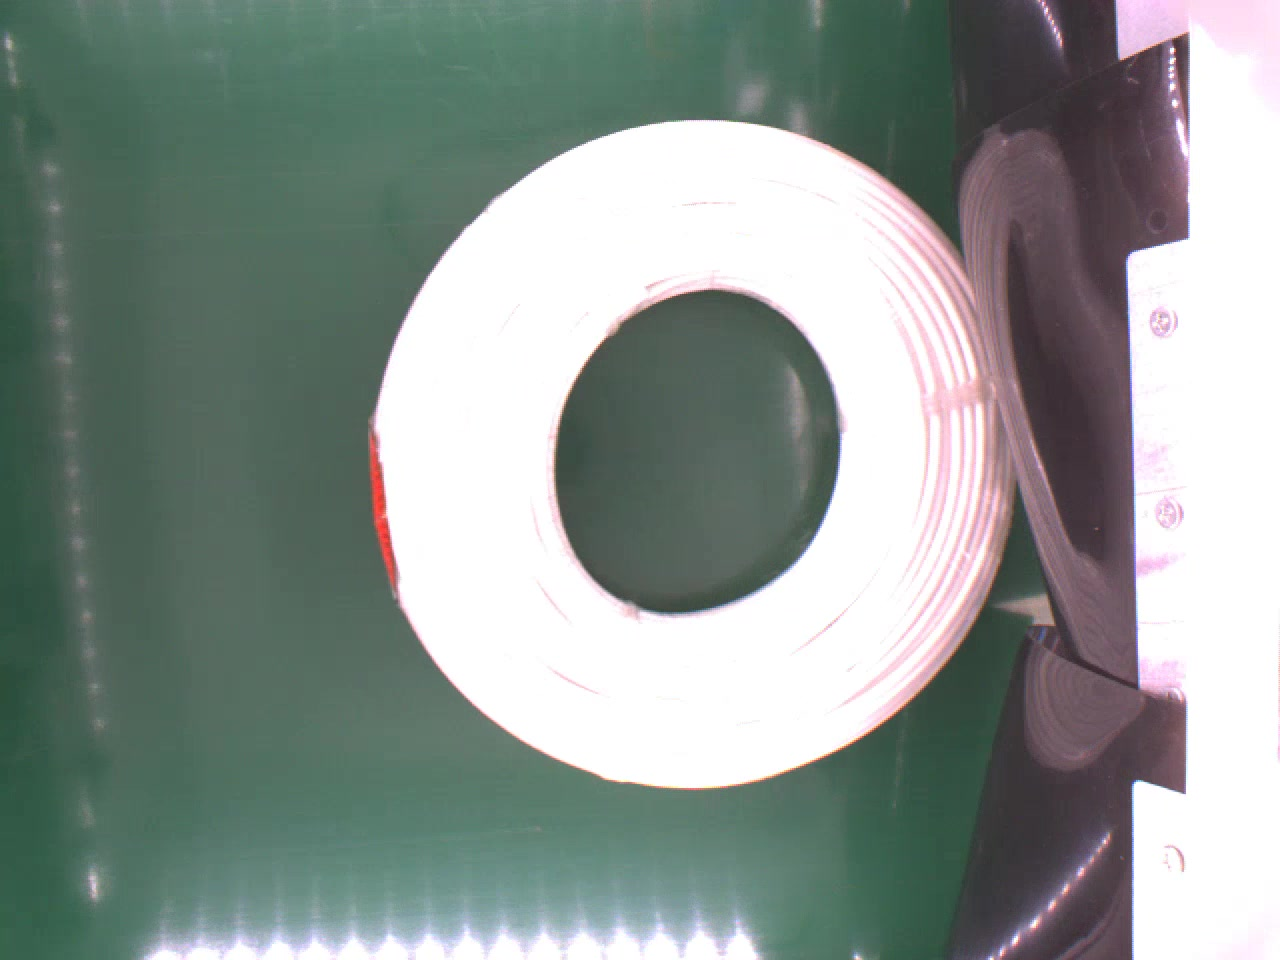white: (369, 116, 1009, 792)
